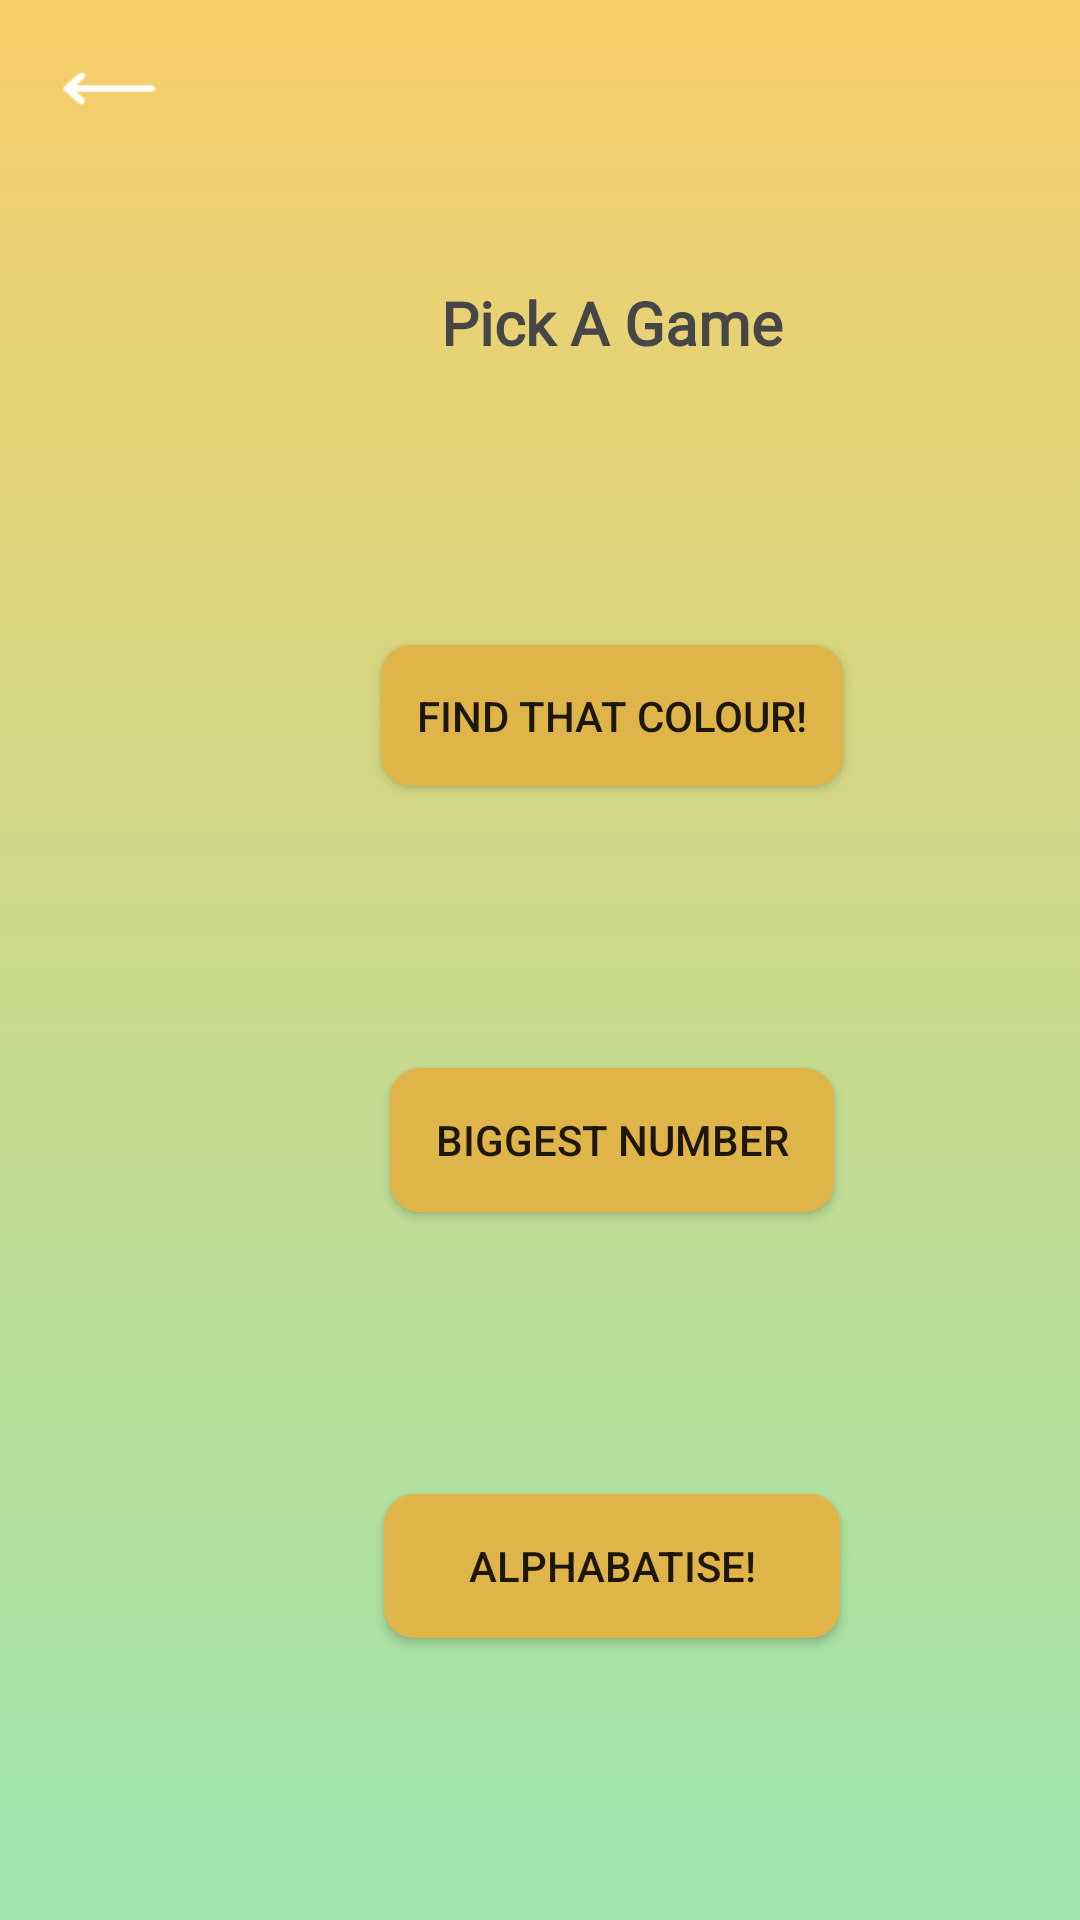

Screen size 1080x1920. Icon name, then its box in pixels as region(x1, y1, x2, y2):
backarrow: region(63, 72, 156, 105)
